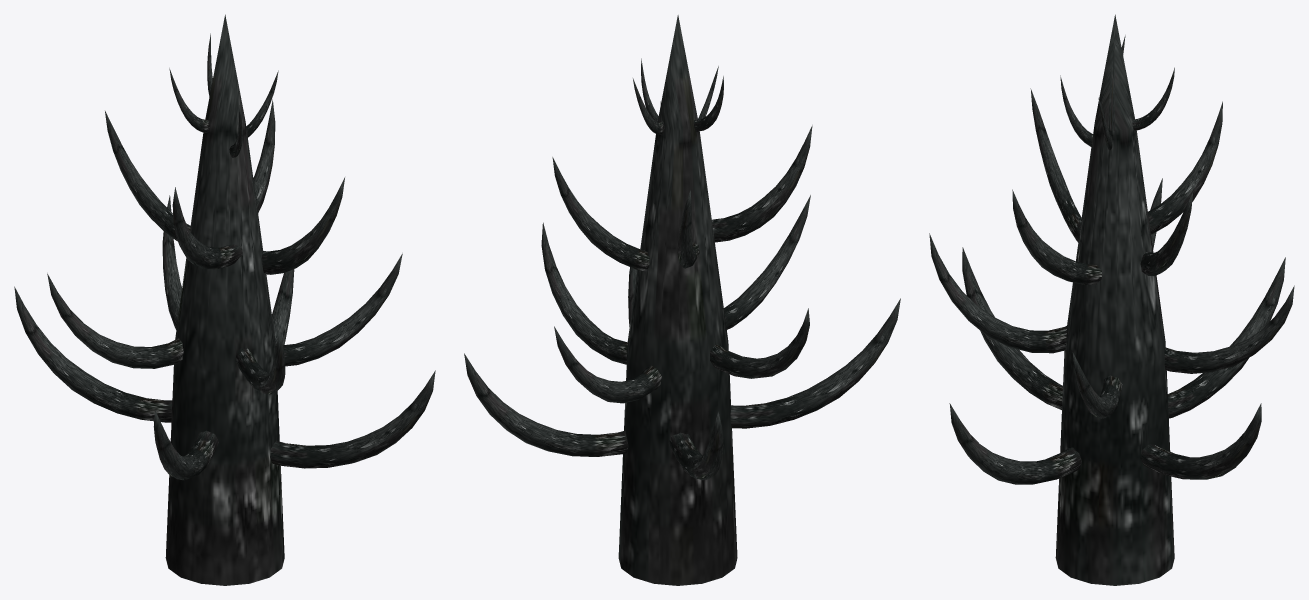
The model's file is EnvTreeDead.fbx.
3 renders of one model, left to right at view 1: azimuth 30°, elevation 25°; view 2: azimuth 150°, elevation 25°; view 3: azimuth 270°, elevation 25°, orthographic.
Parts seen in each view (by area): view 1: Trunk, Branch002, Branch004, Branch001, Branch003; view 2: Trunk, Branch001, Branch003, Branch002, Branch004; view 3: Trunk, Branch001, Branch004, Branch003, Branch002.
Boxes of the visible parts, left/top/right/bottom form: Trunk: left=165, top=14, right=284, bottom=585; Branch002: left=14, top=33, right=212, bottom=422; Branch004: left=229, top=105, right=435, bottom=468; Branch001: left=153, top=68, right=285, bottom=480; Branch003: left=162, top=70, right=294, bottom=345; Trunk: left=618, top=15, right=737, bottom=585; Branch001: left=693, top=76, right=900, bottom=428; Branch003: left=464, top=58, right=661, bottom=456; Branch002: left=633, top=78, right=809, bottom=480; Branch004: left=541, top=66, right=718, bottom=364; Trunk: left=1055, top=14, right=1174, bottom=585; Branch001: left=929, top=35, right=1125, bottom=409; Branch004: left=949, top=75, right=1122, bottom=484; Branch003: left=1098, top=98, right=1294, bottom=479; Branch002: left=1132, top=67, right=1285, bottom=418.
Size of the model in its own units: 150 by 252 by 153.
1 material, 1 textured.
